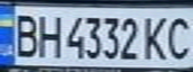2: (118, 12, 142, 61)
3: (100, 12, 124, 61), (81, 12, 103, 60)
4: (63, 11, 84, 60)
B: (9, 10, 42, 58)
C: (163, 12, 193, 61)
H: (33, 10, 63, 58)
K: (139, 12, 172, 61)
